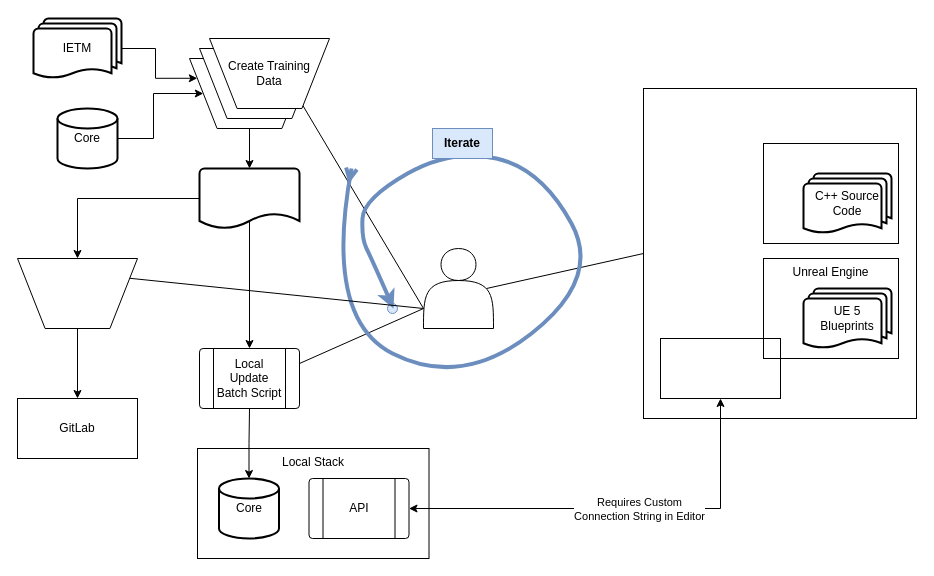
Some shapes in this 934 by 576 pixel diagram are drawn without their labels. Each missing label, with the box of its shape:
Developer Environment: (642, 88, 916, 418)
Git Commit to Development Branch: (16, 258, 138, 328)
SQL Stored Procedures: (198, 167, 300, 229)
Trainer in Edit Mode: (660, 338, 780, 398)
UA Developer: (422, 248, 494, 328)
Visual Studio: (762, 142, 898, 244)
